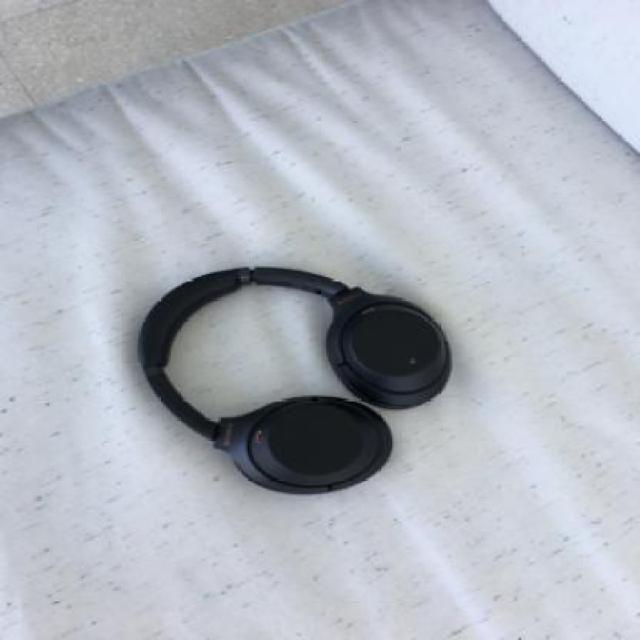earphone: (162, 87, 433, 500)
